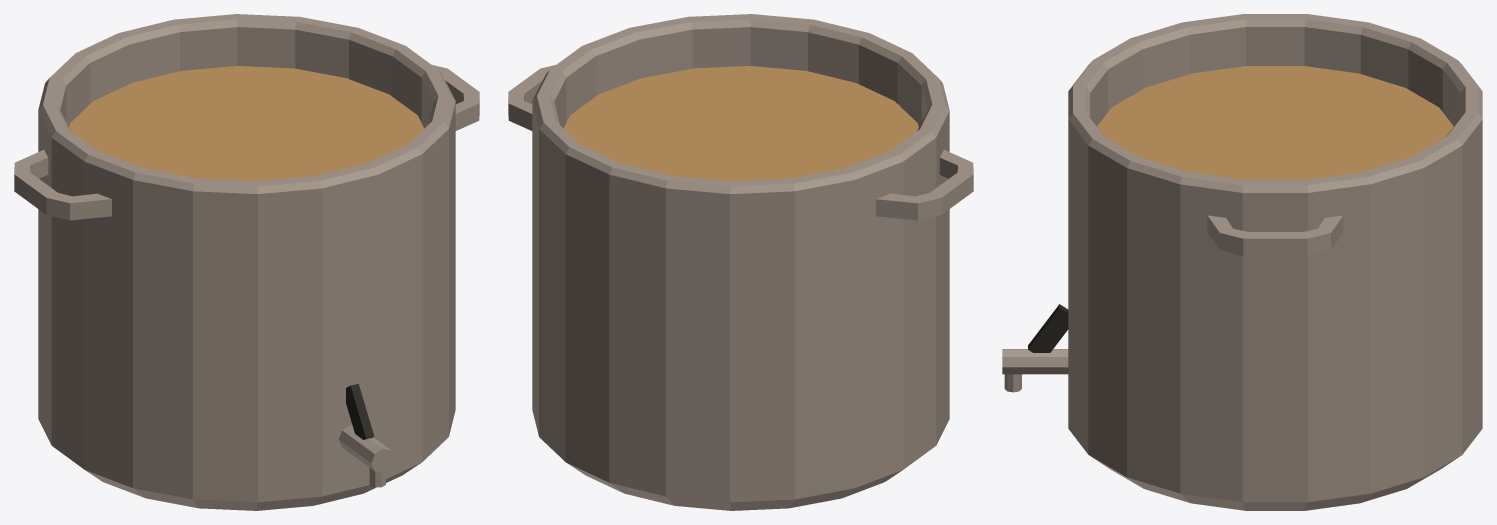
File: SM_Cook_StockPot_01.fbx
3 renders of one model, left to right at view 1: azimuth 30°, elevation 25°; view 2: azimuth 150°, elevation 25°; view 3: azimuth 270°, elevation 25°, orthographic.
Parts seen in each view (by area): view 1: SM_Cook_StockPot_01; view 2: SM_Cook_StockPot_01; view 3: SM_Cook_StockPot_01.
Boxes of the visible parts, x1,y1,x2,y2 form: SM_Cook_StockPot_01: [14, 14, 479, 510]; SM_Cook_StockPot_01: [508, 14, 973, 510]; SM_Cook_StockPot_01: [1002, 14, 1482, 510].
Bounding box in the file's own units: 0.6343 × 0.465 × 0.6067.
Materials: 1 (1 with a texture image).
